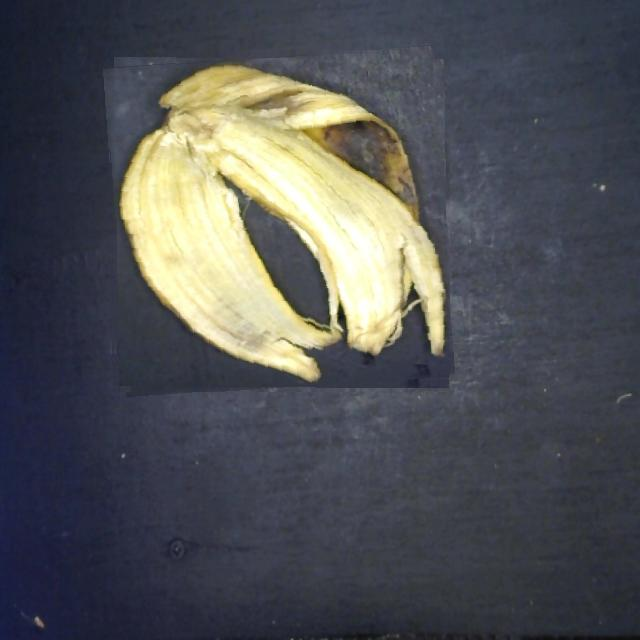biodegradable: (108, 50, 450, 392)
